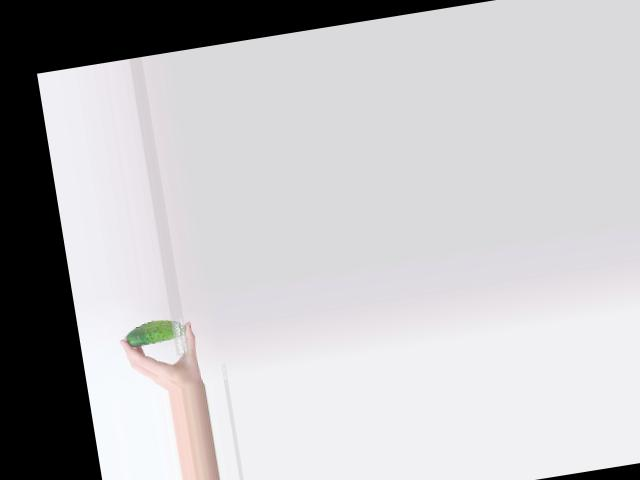cucumber: (124, 315, 187, 347)
